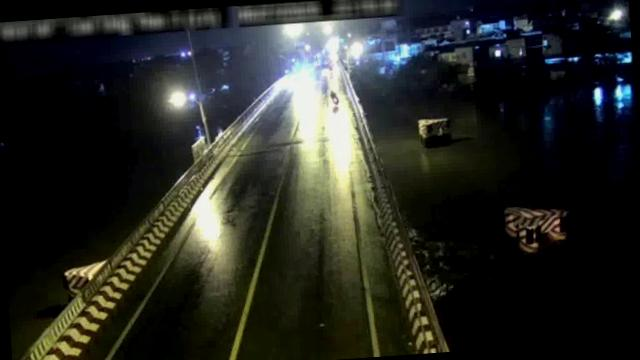Bike: (328, 88, 340, 106)
